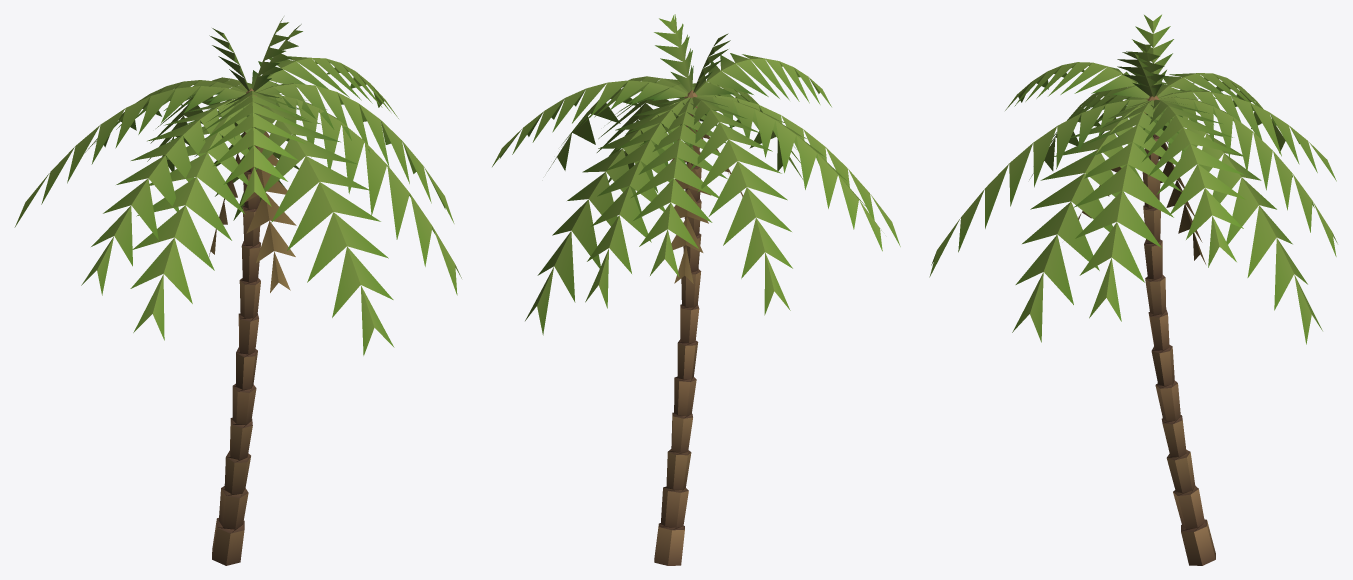
File: palm_medium.glb
3 renders of one model, left to right at view 1: azimuth 30°, elevation 25°; view 2: azimuth 150°, elevation 25°; view 3: azimuth 270°, elevation 25°, orthographic. The views are drawn at different scales.
Visible parts, largest first — view 1: palm_medium_leaf, palm_medium_solid; view 2: palm_medium_leaf, palm_medium_solid; view 3: palm_medium_leaf, palm_medium_solid.
Part boxes in pixels (x1,y1,x2,y2): palm_medium_leaf: (14,17,461,355); palm_medium_solid: (212,88,263,565); palm_medium_leaf: (492,14,900,335); palm_medium_solid: (654,90,707,565); palm_medium_leaf: (929,14,1337,344); palm_medium_solid: (1142,95,1215,565).
Bounding box in the file's own units: 5.96 × 8.69 × 6.05.
